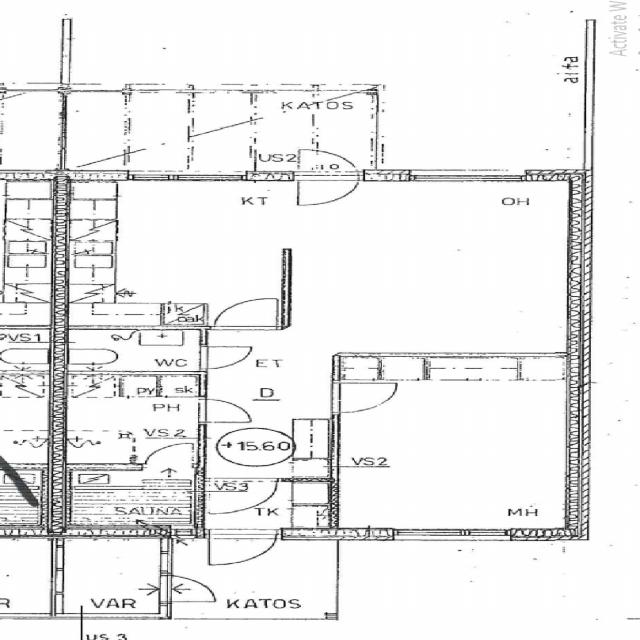door: (209, 528, 278, 572), (209, 478, 277, 514), (299, 170, 358, 209), (299, 142, 358, 181), (211, 296, 275, 330), (330, 383, 400, 413), (159, 575, 228, 602), (143, 441, 190, 470), (196, 346, 252, 369), (196, 399, 252, 422)
